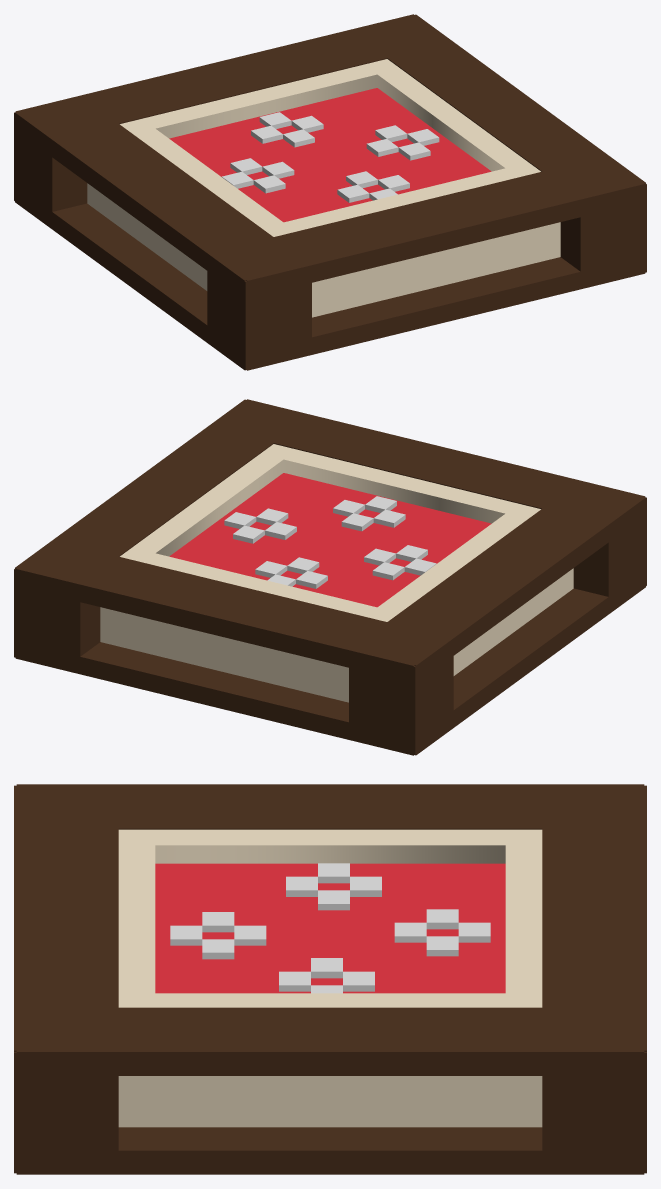
File: detector-red.fbx
3 renders of one model, top to bottom at view 1: azimuth 30°, elevation 25°; view 2: azimuth 150°, elevation 25°; view 3: azimuth 270°, elevation 25°, orthographic. The views are drawn at different scales.
Parts seen in each view (by area): view 1: Cube.002, Cube.001, Cube; view 2: Cube.002, Cube.001, Cube; view 3: Cube.002, Cube.001, Cube.
Boxes of the visible parts, x1=… form: Cube.002: x1=14, y1=14, x2=646, y2=370; Cube.001: x1=87, y1=59, x2=560, y2=317; Cube: x1=222, y1=112, x2=439, y2=202; Cube.002: x1=14, y1=399, x2=646, y2=755; Cube.001: x1=100, y1=444, x2=573, y2=702; Cube: x1=224, y1=496, x2=436, y2=588; Cube.002: x1=14, y1=784, x2=646, y2=1174; Cube.001: x1=118, y1=829, x2=542, y2=1127; Cube: x1=170, y1=863, x2=490, y2=993.
Size of the model in its own units: 1.21 by 0.2589 by 1.21.
